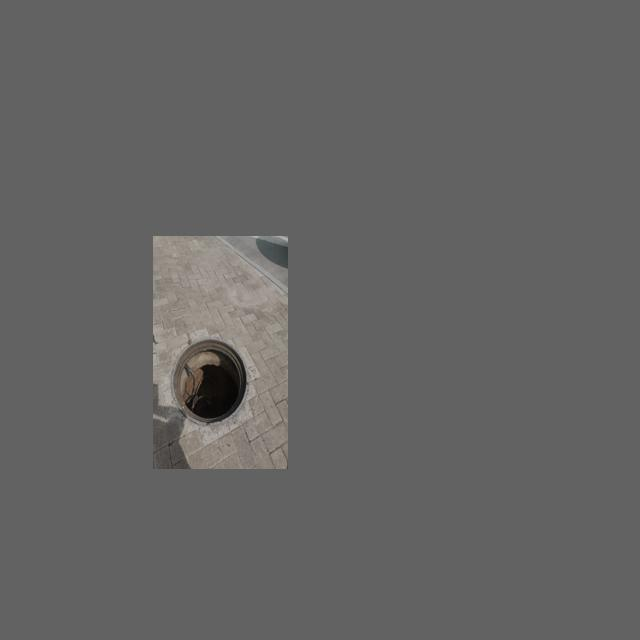lose: (170, 337, 249, 424)
